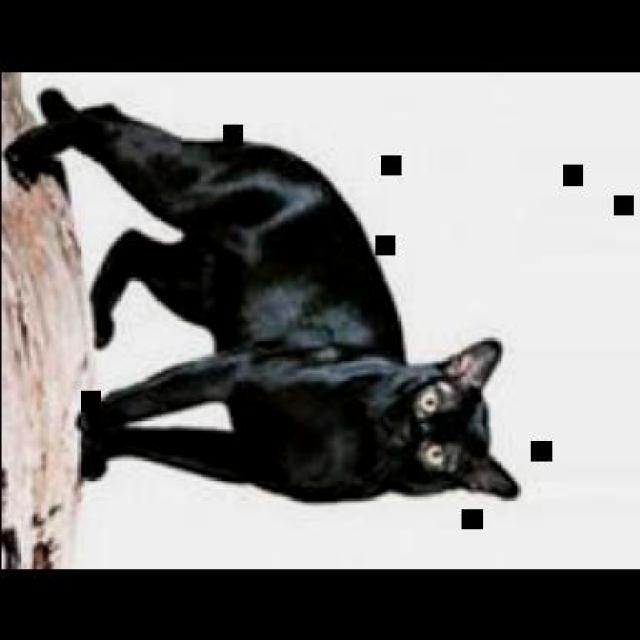unauthorized: (2, 85, 520, 503)
